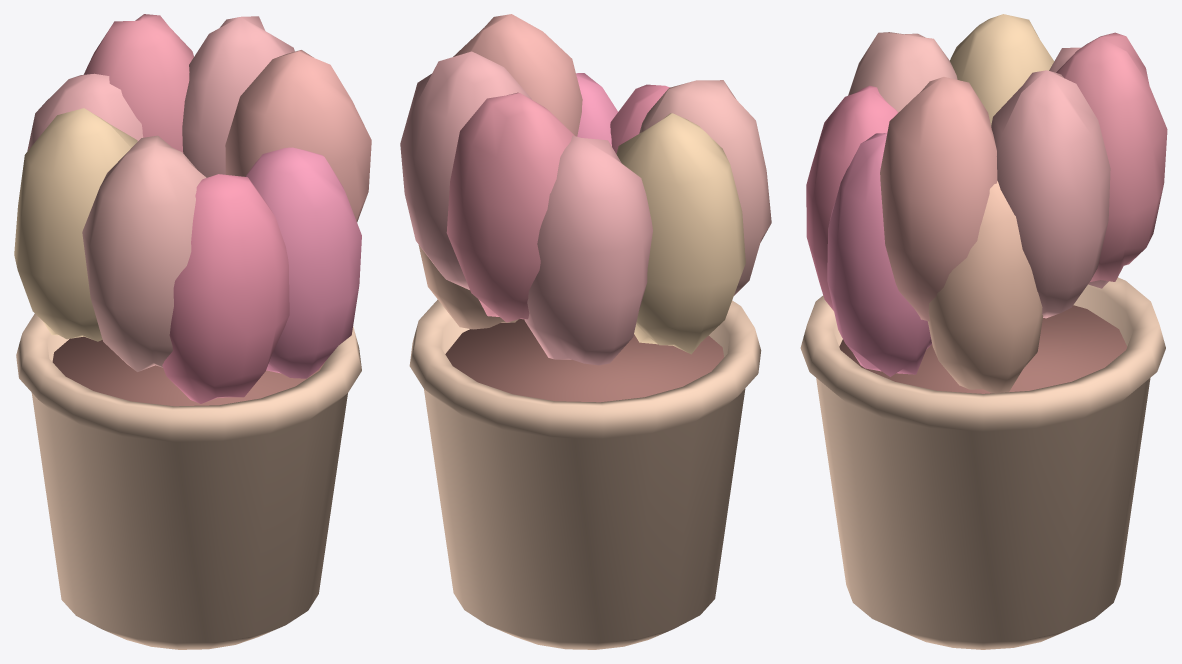
Rendered from WC_RIVER_Potted_Plant_A.glb.
3 renders of one model, left to right at view 1: azimuth 30°, elevation 25°; view 2: azimuth 150°, elevation 25°; view 3: azimuth 270°, elevation 25°, orthographic. The views are drawn at different scales.
Visible parts, largest first — view 1: WC_RIVER_Potted_Plant_A_RenderMesh; view 2: WC_RIVER_Potted_Plant_A_RenderMesh; view 3: WC_RIVER_Potted_Plant_A_RenderMesh.
Boxes of the visible parts, box(x1,y1,x2,y2) form: WC_RIVER_Potted_Plant_A_RenderMesh: box(14, 14, 371, 649); WC_RIVER_Potted_Plant_A_RenderMesh: box(400, 14, 771, 649); WC_RIVER_Potted_Plant_A_RenderMesh: box(800, 14, 1167, 649).
Size of the model in its own units: 0.6008 by 0.9804 by 0.5621.
